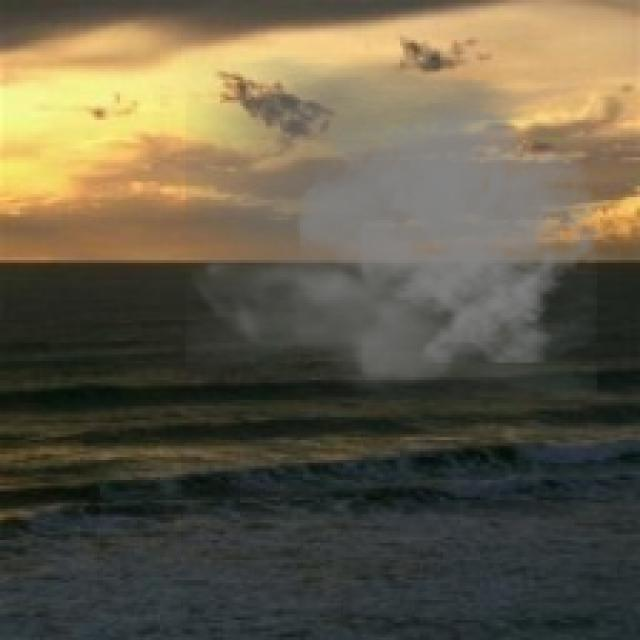smoke: (186, 54, 611, 400)
